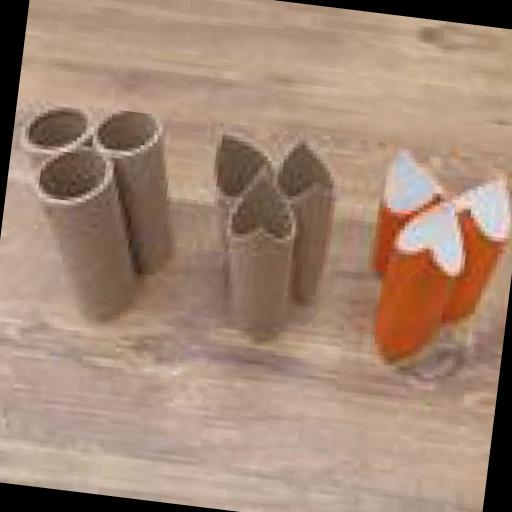cardboard: (16, 136, 144, 320), (78, 100, 186, 273), (365, 192, 464, 364), (212, 152, 300, 335), (258, 134, 342, 308), (433, 159, 512, 329), (366, 138, 443, 286), (200, 122, 276, 256), (14, 94, 89, 170)
